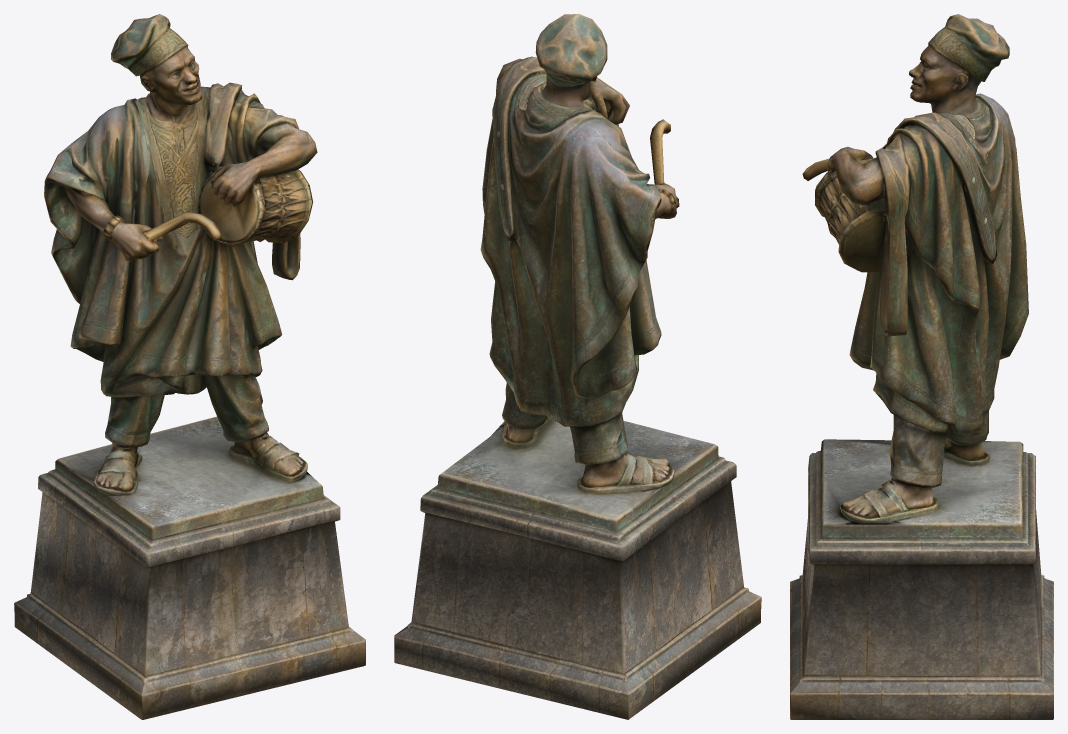
File: statue.glb
The picture shows the model from 3 angles, left to right: view 1: azimuth 30°, elevation 25°; view 2: azimuth 150°, elevation 25°; view 3: azimuth 270°, elevation 25°; orthographic projection. The views are drawn at different scales.
Visible parts, largest first — view 1: tripo_node_46d256f8-3997-4ae6-9a9b-750e5ebf058b; view 2: tripo_node_46d256f8-3997-4ae6-9a9b-750e5ebf058b; view 3: tripo_node_46d256f8-3997-4ae6-9a9b-750e5ebf058b.
Part boxes in pixels (left/top/right/bottom): tripo_node_46d256f8-3997-4ae6-9a9b-750e5ebf058b: left=14, top=14, right=365, bottom=719; tripo_node_46d256f8-3997-4ae6-9a9b-750e5ebf058b: left=394, top=14, right=761, bottom=719; tripo_node_46d256f8-3997-4ae6-9a9b-750e5ebf058b: left=790, top=14, right=1053, bottom=719.
Bounding box in the file's own units: 0.3733 × 0.9783 × 0.3657.
1 material, 1 textured.
